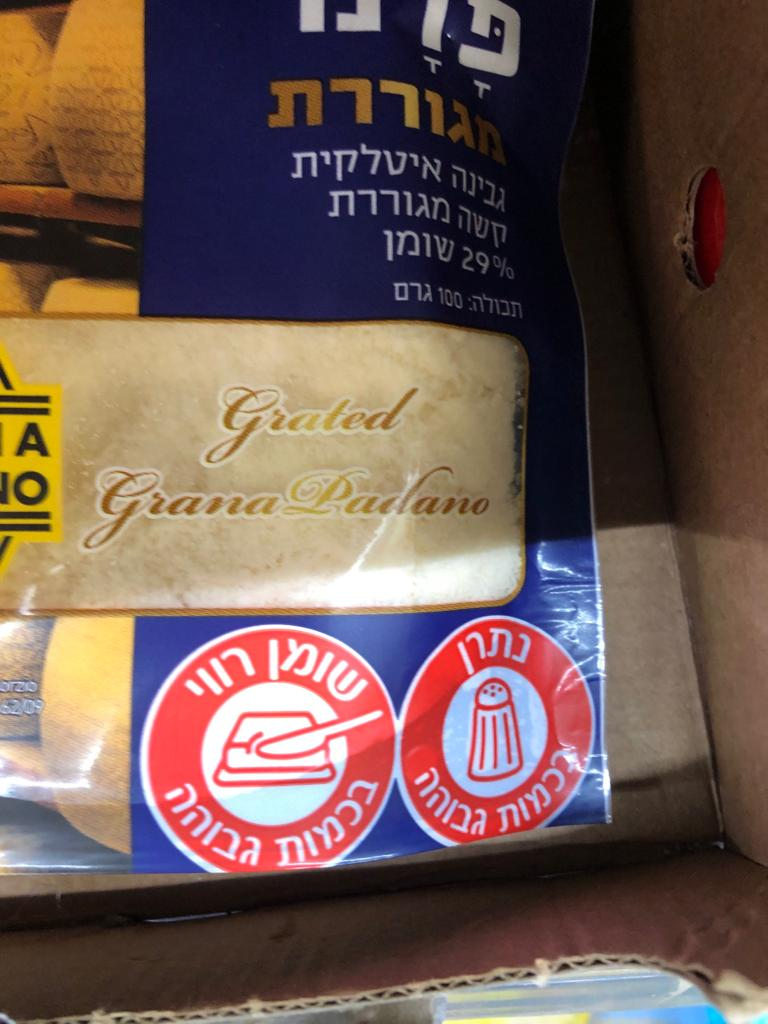fat: (138, 624, 400, 875)
salt: (394, 615, 597, 846)
